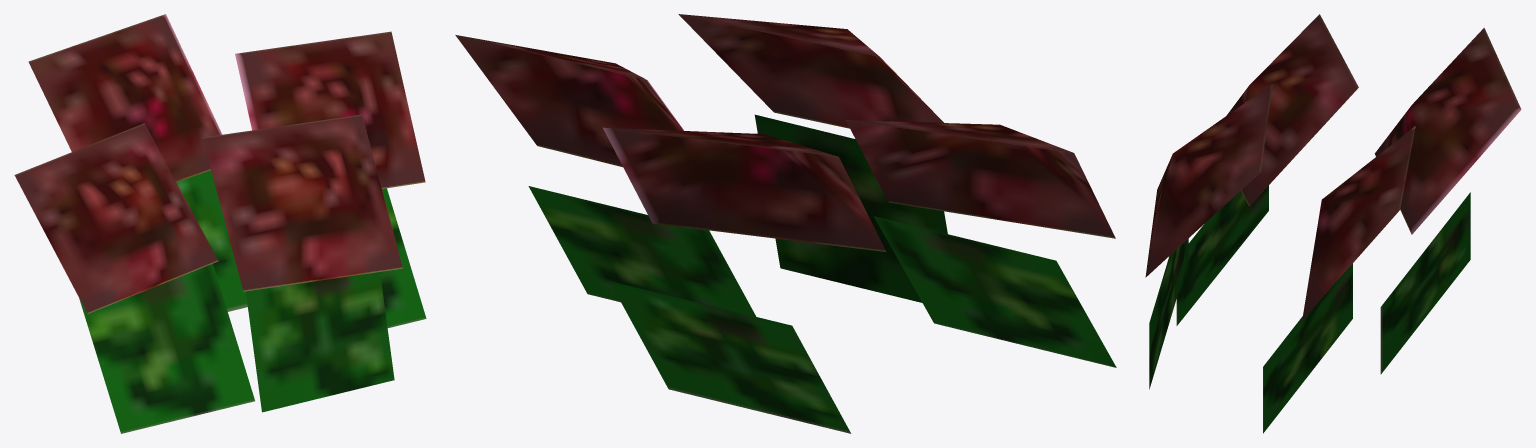
The model's file is flw_rose_bk.dae.
3 renders of one model, left to right at view 1: azimuth 30°, elevation 25°; view 2: azimuth 150°, elevation 25°; view 3: azimuth 270°, elevation 25°, orthographic. The views are drawn at different scales.
Visible parts, largest first — view 1: flw_rose_bk; view 2: flw_rose_bk; view 3: flw_rose_bk.
Part boxes in pixels (x1,y1,x2,y2): flw_rose_bk: [14, 14, 426, 433]; flw_rose_bk: [455, 14, 1116, 433]; flw_rose_bk: [1145, 14, 1521, 433].
Size of the model in its own units: 33.43 by 19.21 by 25.27.
1 material, 1 textured.
